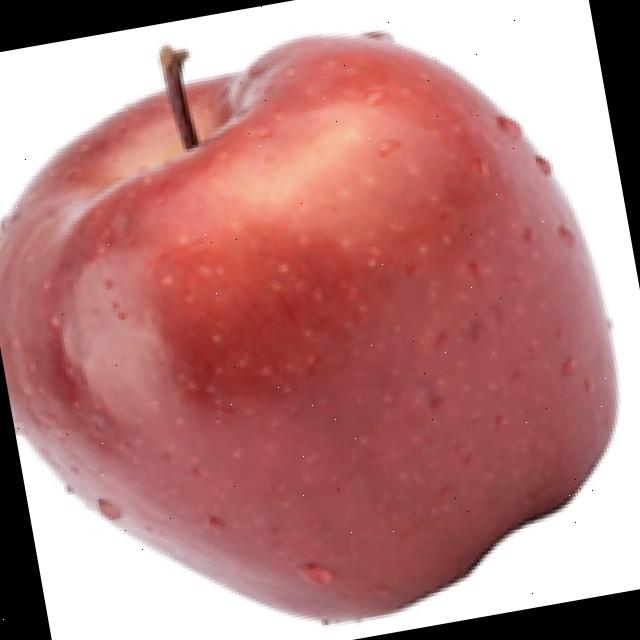apple: (0, 24, 622, 628)
